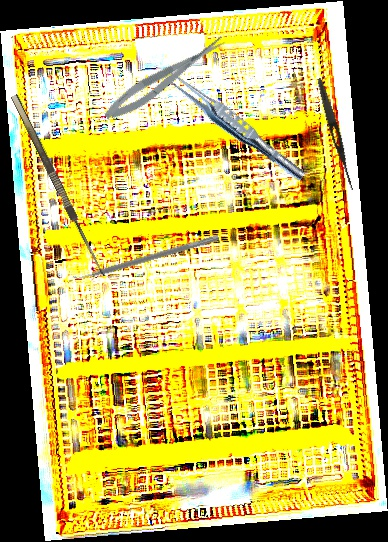Dressing Forceps: (314, 77, 358, 191)
Hook Surgical: (10, 89, 116, 279)
Micro Scissor: (99, 31, 231, 127)
Spatula Surgical: (71, 228, 220, 285)
Tissue Forceps: (159, 66, 311, 185)
